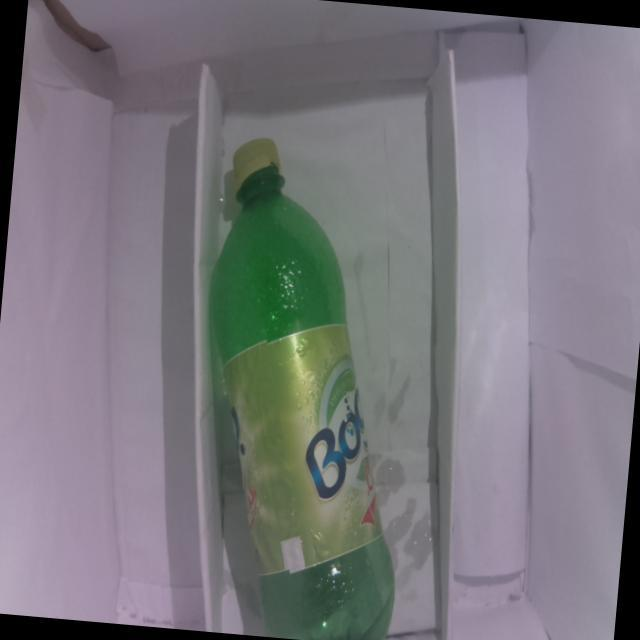good: (168, 124, 438, 640)
